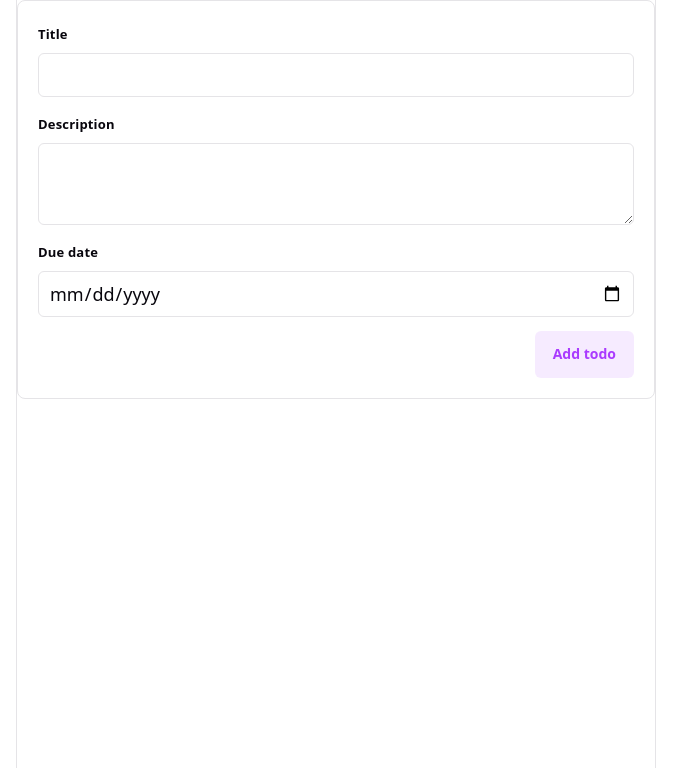
it: TodoForm › shows an inline error and does not submit when the title is blank
The width and height of the screenshot is (673, 768).
Click the button "Add todo" at (584, 355), box [535,332,634,378]
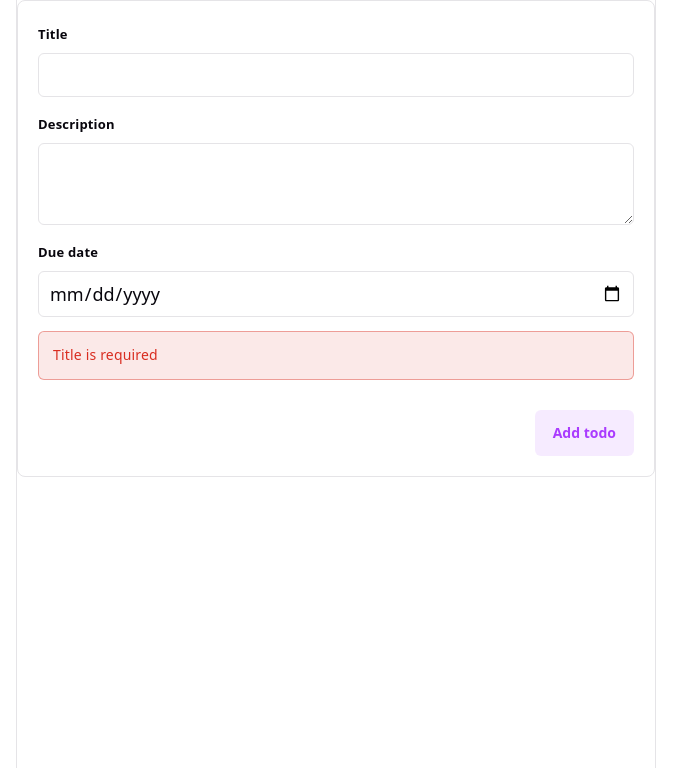
Expected: the message reads "Title is required", [53,346,158,364]
